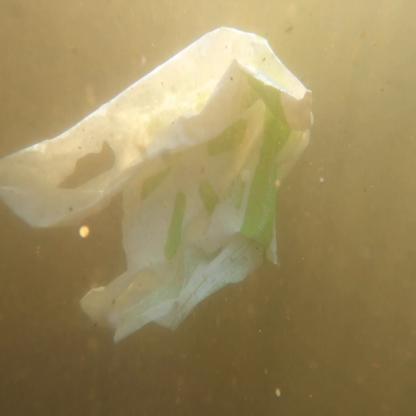Rác: (40, 27, 312, 332)
